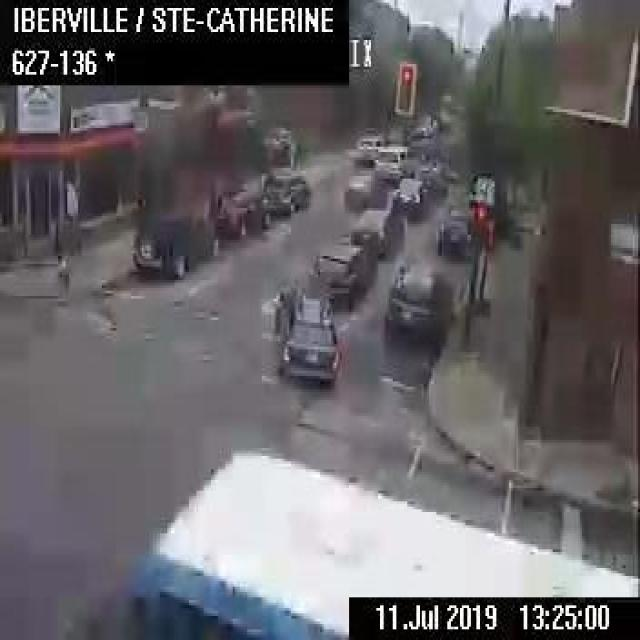bus: (118, 448, 638, 637)
pedestrian: (56, 240, 74, 291)
vehicle: (346, 592, 638, 637), (382, 250, 453, 346), (272, 285, 339, 383), (131, 207, 220, 280), (311, 241, 373, 307), (206, 185, 270, 238), (350, 206, 404, 252), (260, 166, 309, 212), (436, 204, 474, 256), (343, 166, 387, 209), (374, 144, 414, 182), (263, 126, 298, 164), (391, 174, 426, 211), (416, 158, 447, 197), (354, 126, 387, 156)
